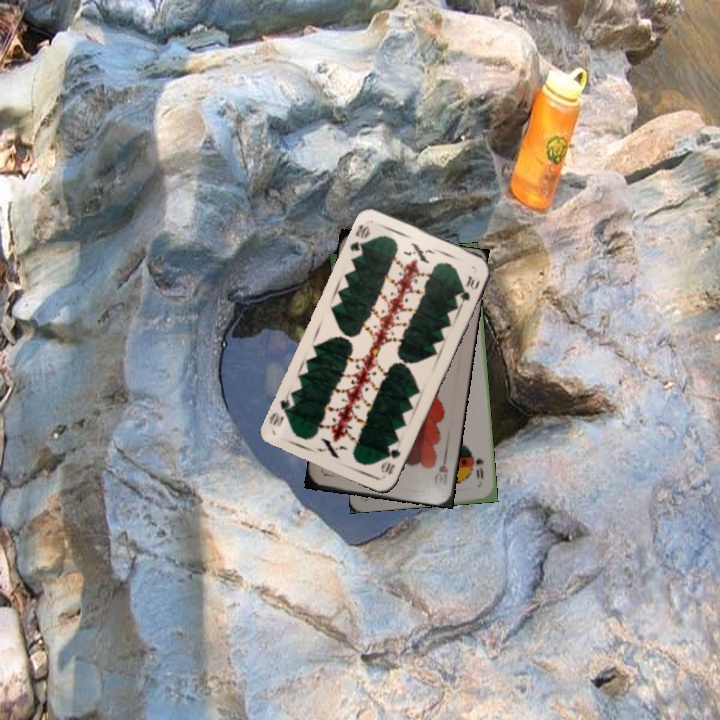G10: (346, 220, 373, 260), (377, 444, 403, 477)
H10: (435, 449, 451, 487)
SO: (471, 454, 486, 482)
